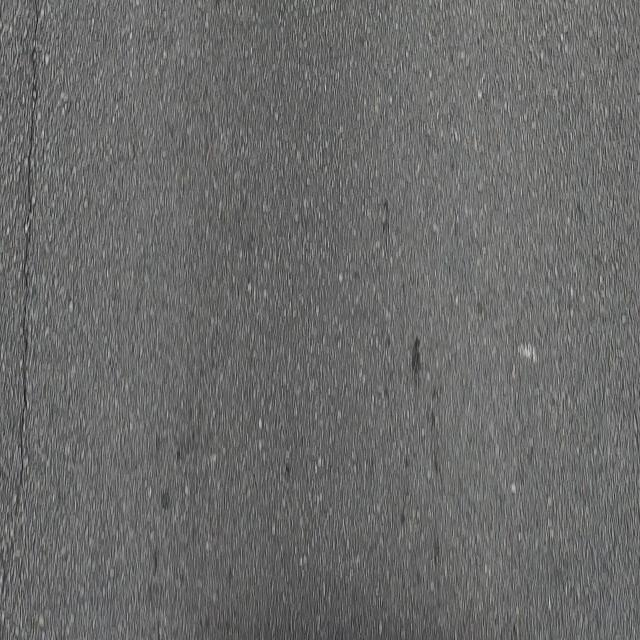Retak-Memanjang: (13, 0, 45, 510)
